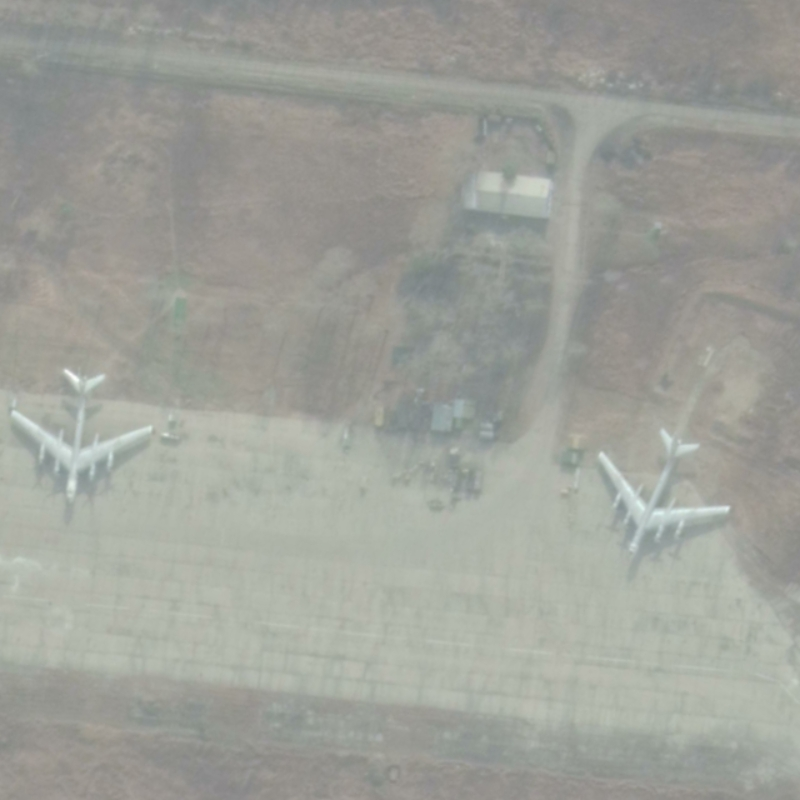A17: (8, 365, 154, 508), (595, 426, 732, 560)
